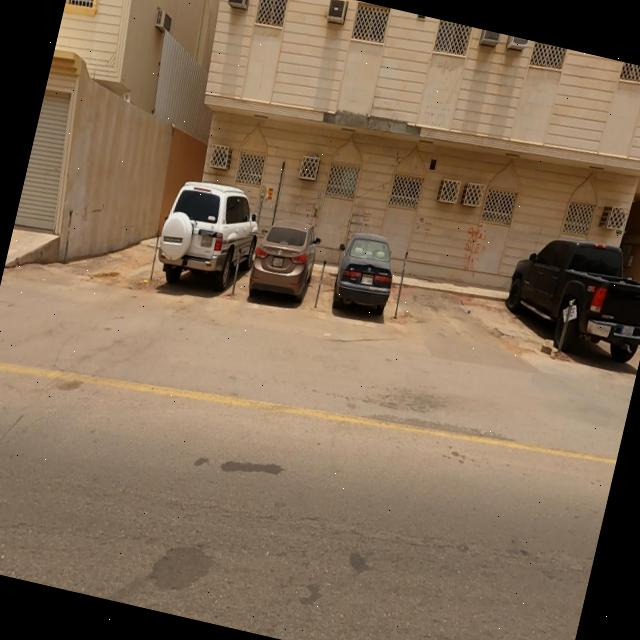Graffiti: (459, 223, 491, 277)
